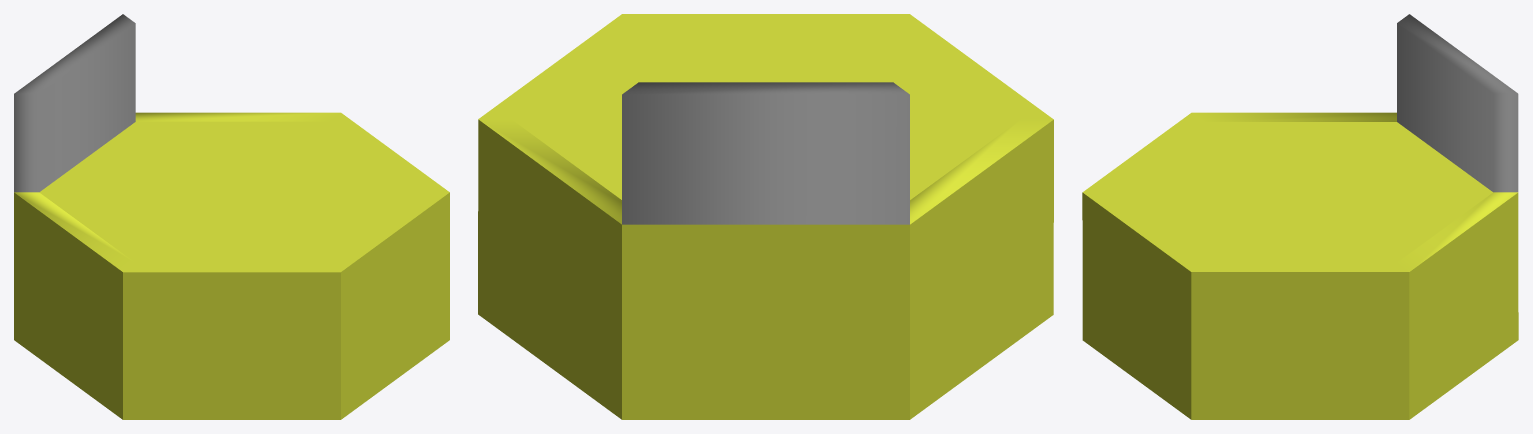
File: NormalTile1WallStage2.fbx
3 renders of one model, left to right at view 1: azimuth 30°, elevation 25°; view 2: azimuth 150°, elevation 25°; view 3: azimuth 270°, elevation 25°, orthographic. The views are drawn at different scales.
Parts seen in each view (by area): view 1: NormalTile1WallStage2; view 2: NormalTile1WallStage2; view 3: NormalTile1WallStage2.
Part boxes in pixels (left/top/right/bottom): NormalTile1WallStage2: left=14, top=14, right=449, bottom=419; NormalTile1WallStage2: left=478, top=14, right=1053, bottom=419; NormalTile1WallStage2: left=1082, top=14, right=1518, bottom=419.
Bounding box in the file's own units: 173 × 125 × 200.
